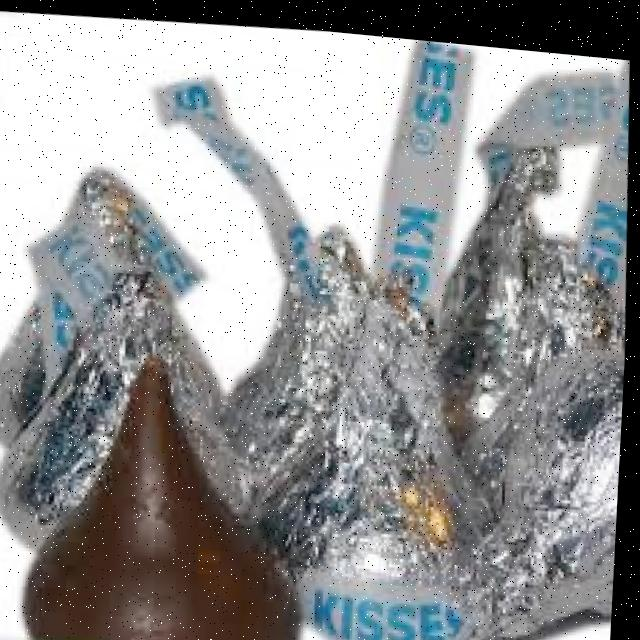kisses: (0, 246, 248, 579), (411, 132, 629, 454), (450, 323, 628, 640), (289, 376, 496, 640), (221, 214, 398, 522)
